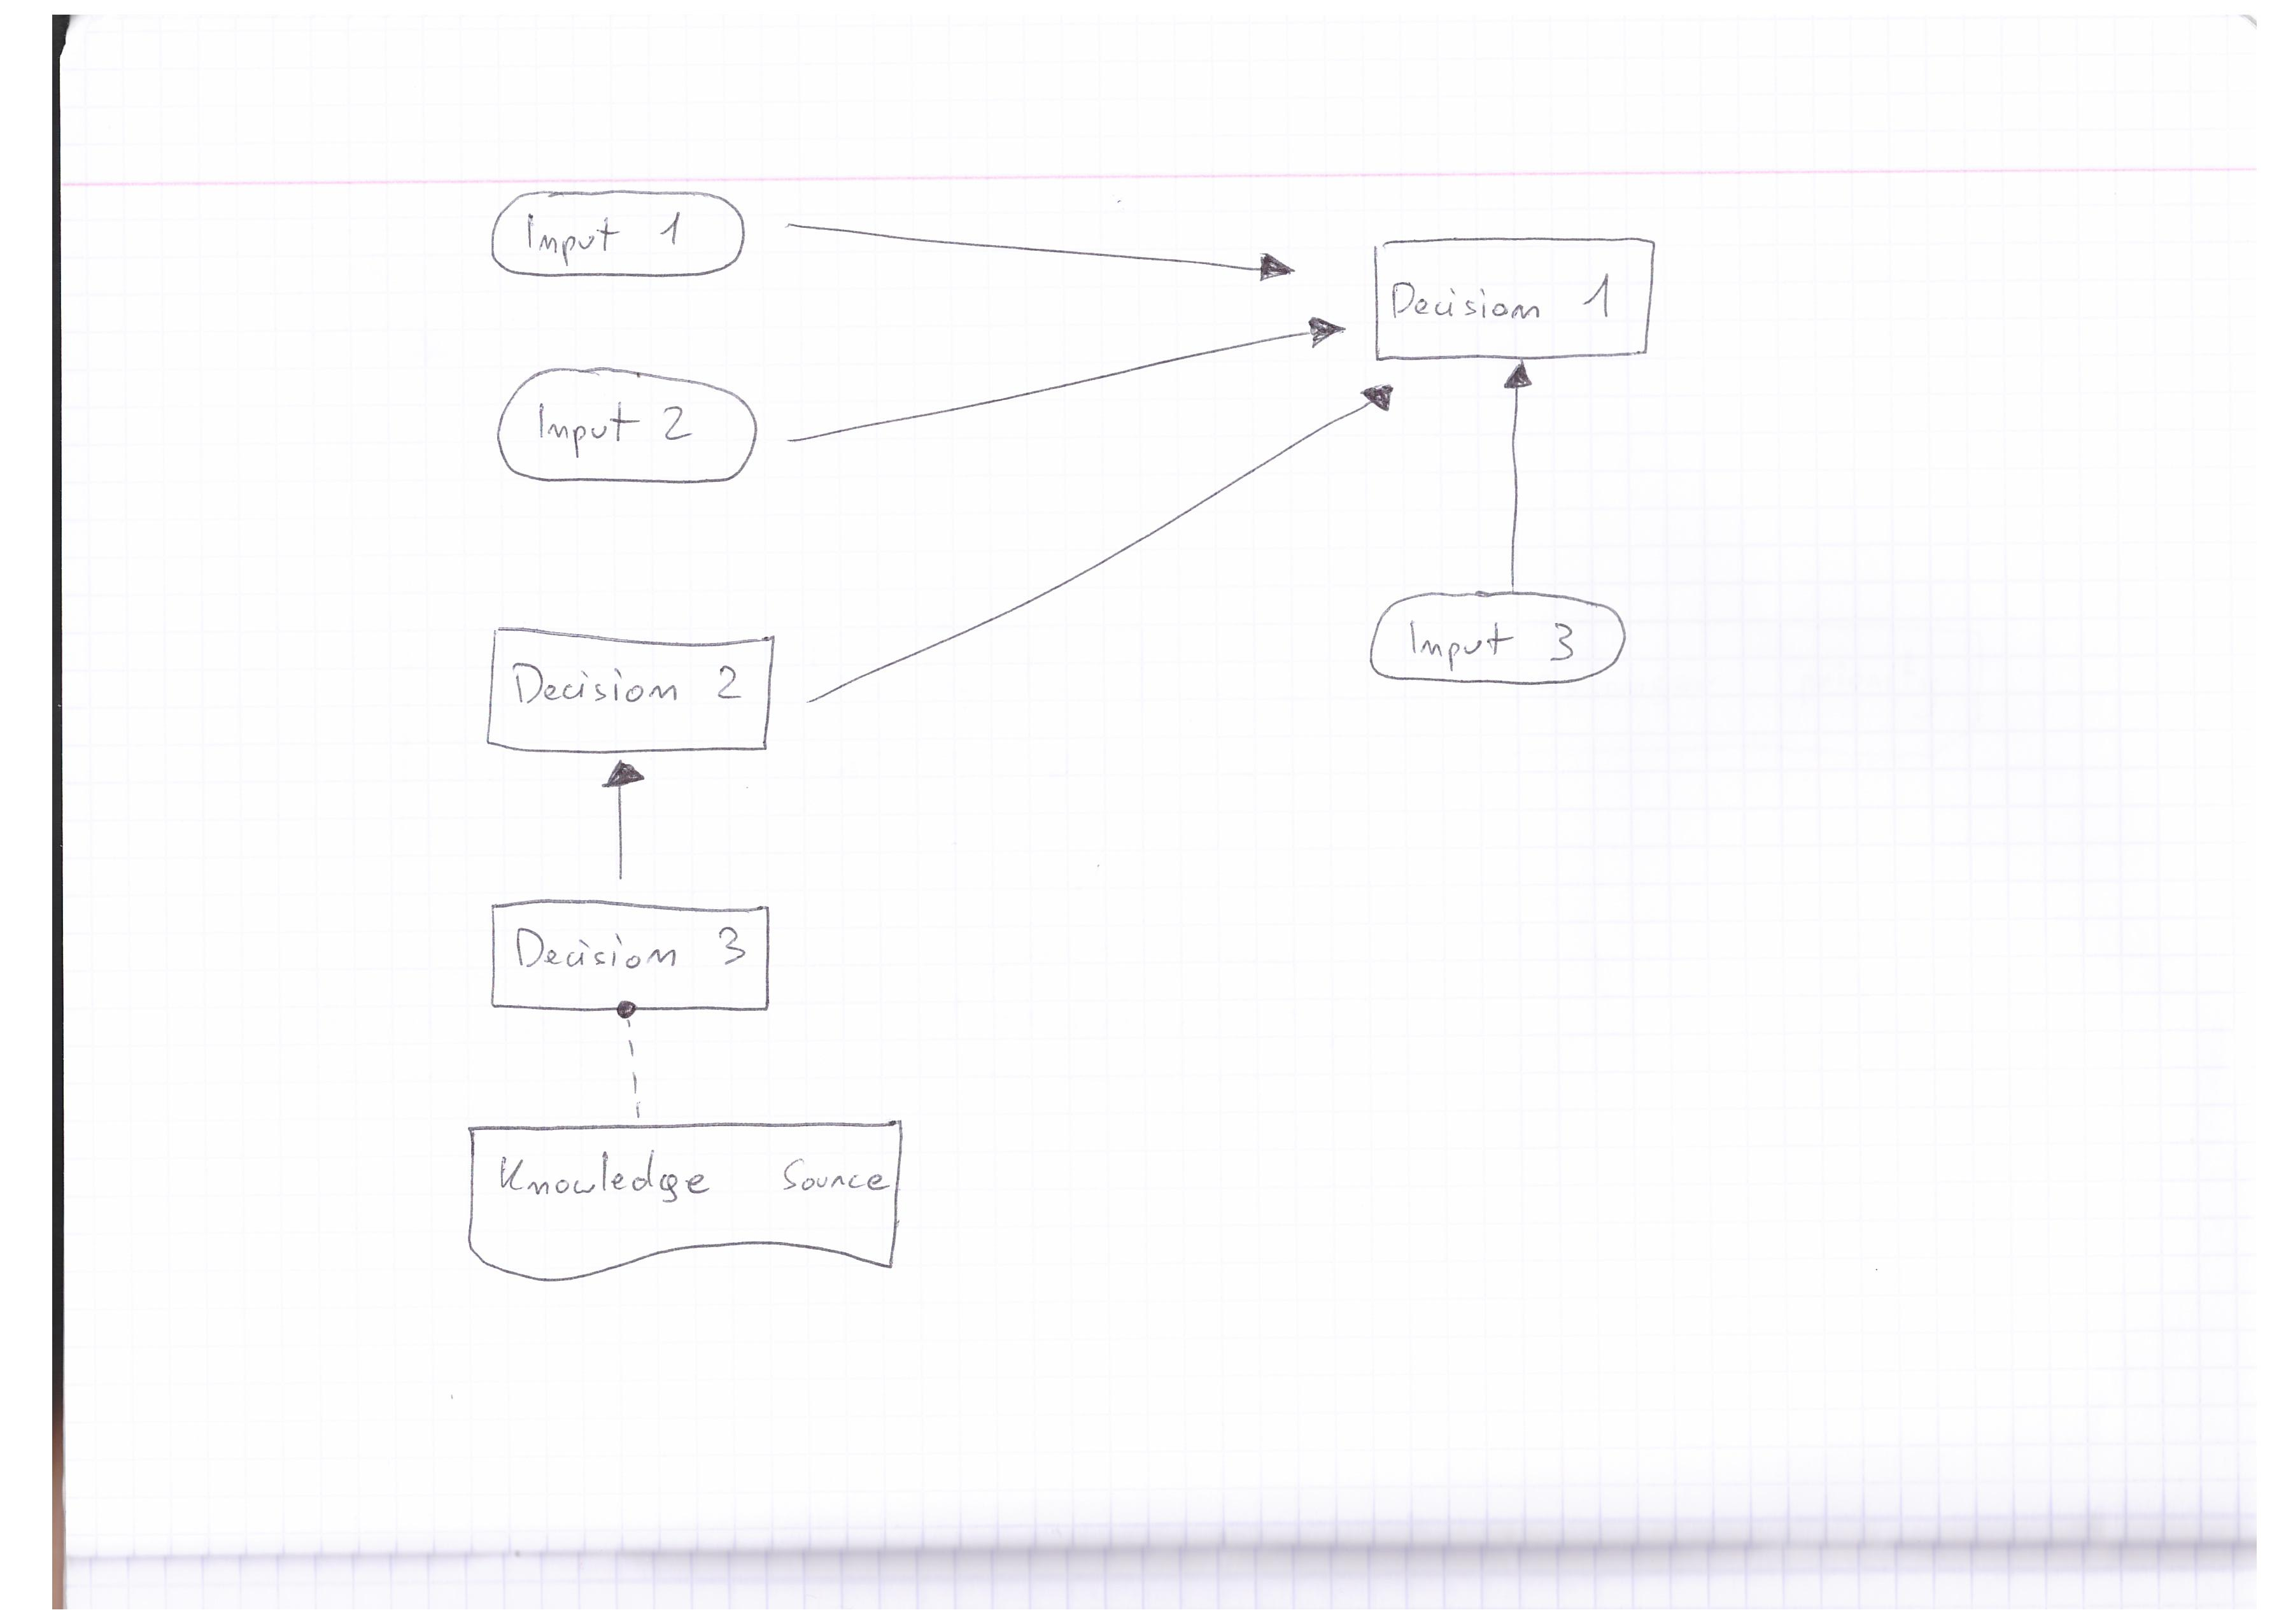arrow_authority_requirement: (590, 998, 664, 1123)
arrow_information_requirement: (803, 378, 1406, 722), (778, 308, 1351, 459), (771, 204, 1311, 301), (590, 758, 650, 893)
node_decision: (466, 619, 778, 758), (471, 895, 791, 1023), (1371, 230, 1662, 367)
node_input_data: (466, 352, 775, 517), (1342, 585, 1652, 712), (473, 179, 756, 304)
node_knowledge_source: (455, 1118, 926, 1292)
text: (492, 1144, 893, 1225), (504, 914, 757, 995), (499, 643, 750, 721), (1386, 264, 1625, 343), (525, 392, 708, 469), (1395, 606, 1592, 675), (513, 200, 696, 269)
